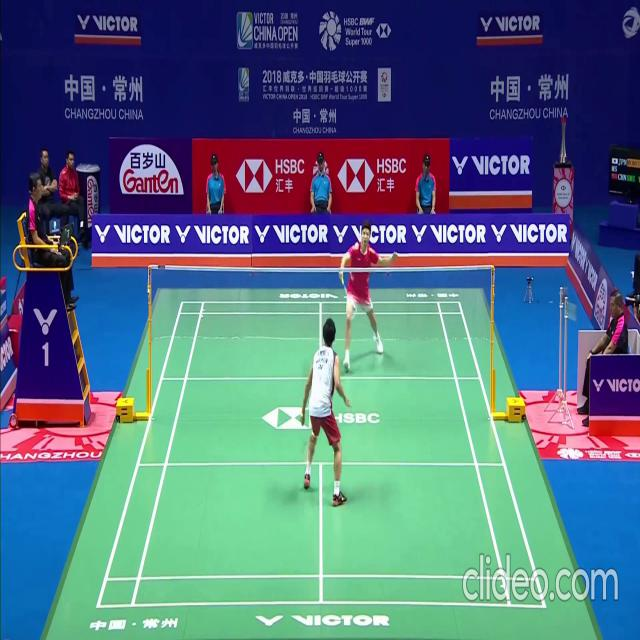Shuttlecock: (355, 242, 359, 249)
